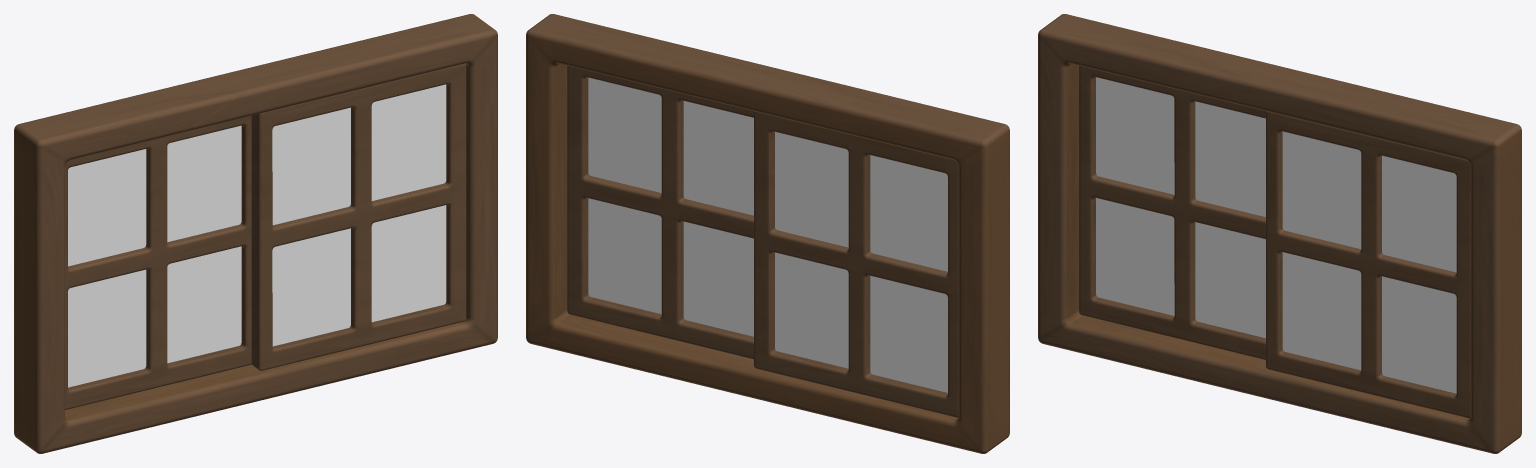
The model's file is Window.obj.
3 renders of one model, left to right at view 1: azimuth 30°, elevation 25°; view 2: azimuth 150°, elevation 25°; view 3: azimuth 330°, elevation 25°, orthographic.
Visible parts, largest first — view 1: Window_OutFrameSG, Window_Glass2SG, Window_Glass1SG, Window_Frame2SG, Window_Frame1SG; view 2: Window_OutFrameSG, Window_Glass1SG, Window_Glass2SG, Window_Frame1SG, Window_Frame2SG; view 3: Window_OutFrameSG, Window_Glass2SG, Window_Glass1SG, Window_Frame2SG, Window_Frame1SG.
Part boxes in pixels (bbox=[...]): Window_OutFrameSG: bbox=[14, 14, 497, 453]; Window_Glass2SG: bbox=[272, 84, 446, 346]; Window_Glass1SG: bbox=[68, 125, 241, 387]; Window_Frame2SG: bbox=[251, 63, 466, 370]; Window_Frame1SG: bbox=[65, 115, 251, 409]; Window_OutFrameSG: bbox=[526, 14, 1009, 453]; Window_Glass1SG: bbox=[775, 132, 947, 392]; Window_Glass2SG: bbox=[588, 77, 753, 336]; Window_Frame1SG: bbox=[754, 111, 958, 417]; Window_Frame2SG: bbox=[567, 65, 753, 359]; Window_OutFrameSG: bbox=[1038, 14, 1521, 453]; Window_Glass2SG: bbox=[1282, 131, 1456, 393]; Window_Glass1SG: bbox=[1096, 77, 1265, 338]; Window_Frame2SG: bbox=[1266, 111, 1470, 418]; Window_Frame1SG: bbox=[1079, 65, 1265, 359].
Bounding box in the file's own units: 17.33 × 11.26 × 1.71.
5 materials, 5 textured.
